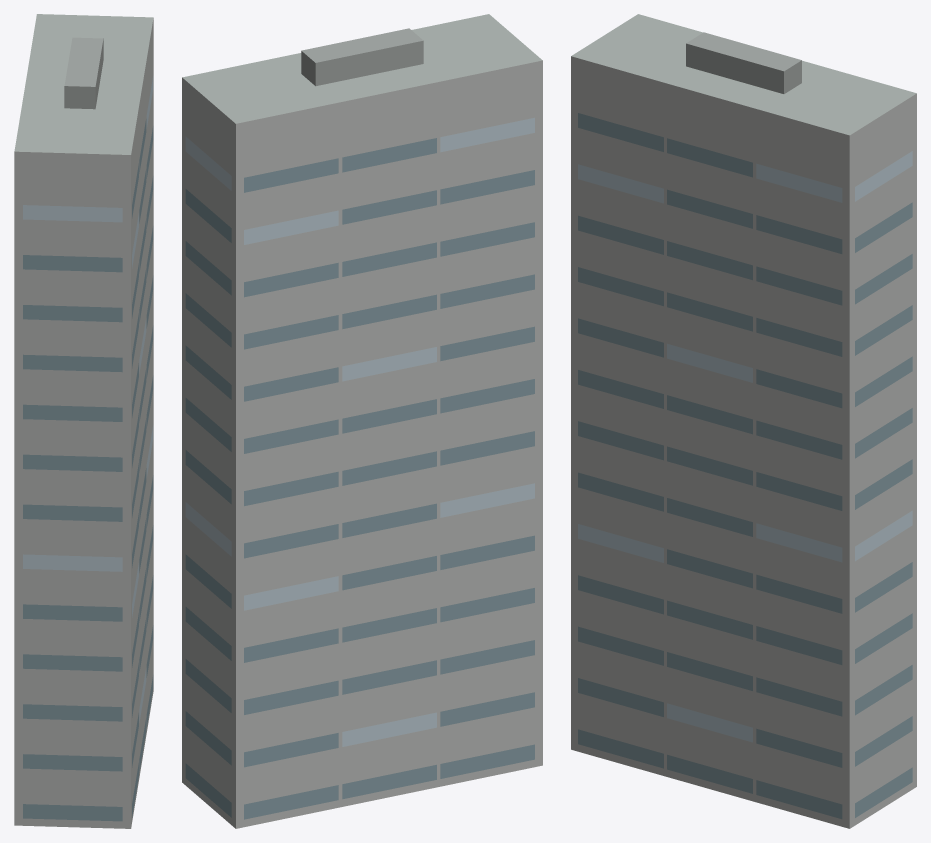
File: fallback-jamsil-parkrio-111.glb
3 renders of one model, left to right at view 1: azimuth 30°, elevation 25°; view 2: azimuth 150°, elevation 25°; view 3: azimuth 270°, elevation 25°, orthographic. The views are drawn at different scales.
Parts seen in each view (by area): view 1: fallback-jamsil-parkrio-111; view 2: fallback-jamsil-parkrio-111; view 3: fallback-jamsil-parkrio-111.
Boxes of the visible parts, bbox=[...] form: fallback-jamsil-parkrio-111: bbox=[14, 14, 153, 828]; fallback-jamsil-parkrio-111: bbox=[182, 14, 542, 828]; fallback-jamsil-parkrio-111: bbox=[571, 14, 916, 828].
Bounding box in the file's own units: 27.28 × 75 × 32.83.
